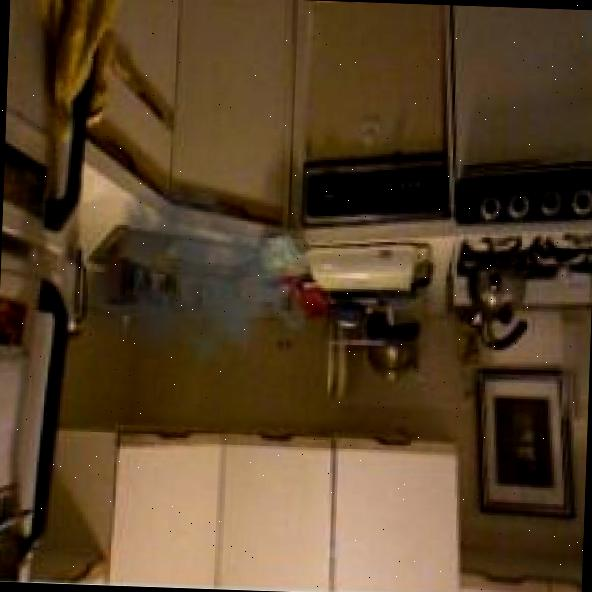smoke: (82, 170, 308, 392)
